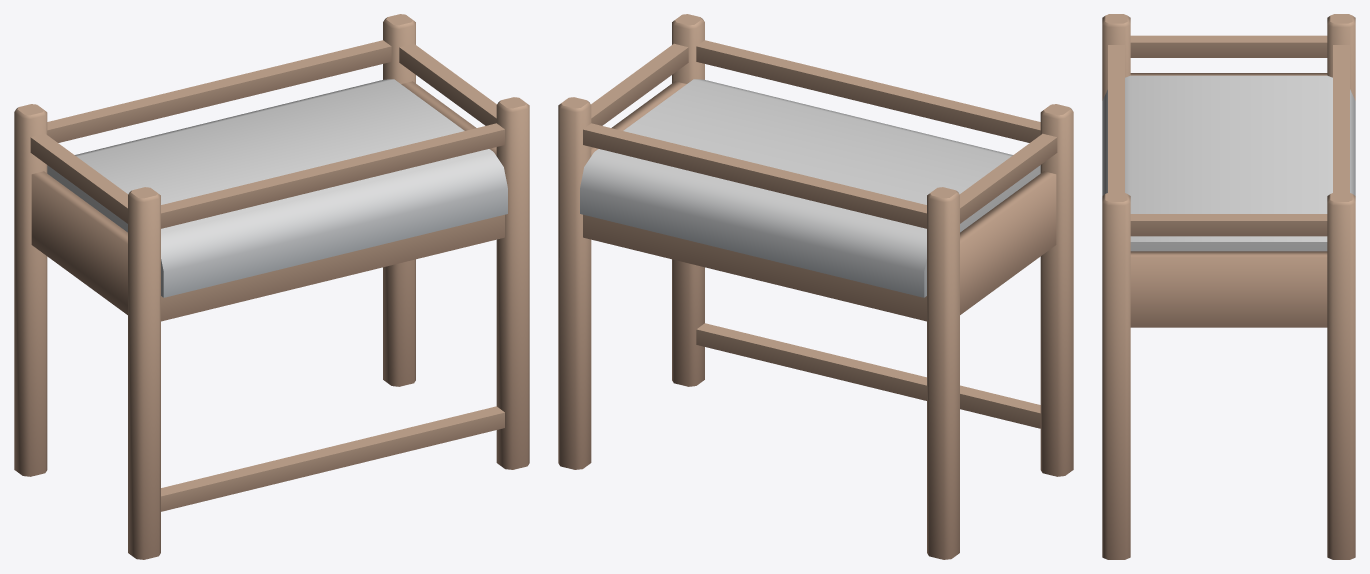
The model's file is bed-loft-railing.glb.
3 views of the same model, side by side, from view 1: azimuth 30°, elevation 25°; view 2: azimuth 150°, elevation 25°; view 3: azimuth 270°, elevation 25° (orthographic).
Visible parts, largest first — view 1: bed-loft-railing; view 2: bed-loft-railing; view 3: bed-loft-railing.
Part boxes in pixels (x1,y1,x2,y2): bed-loft-railing: (14,14,529,559); bed-loft-railing: (558,14,1073,559); bed-loft-railing: (1102,14,1355,559).
Bounding box in the file's own units: 1.6 × 1.4 × 0.9.
